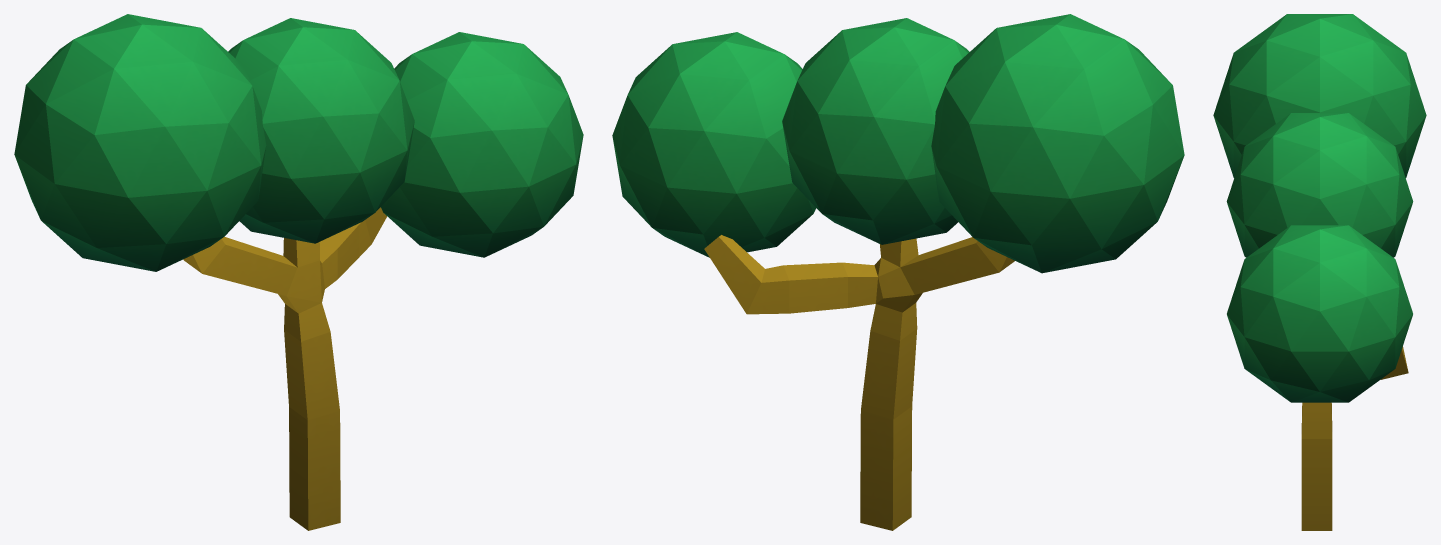
The model's file is tree.obj.
The picture shows the model from 3 angles, left to right: view 1: azimuth 30°, elevation 25°; view 2: azimuth 150°, elevation 25°; view 3: azimuth 270°, elevation 25°; orthographic projection. The views are drawn at different scales.
Visible parts, largest first — view 1: foliage_sm, tree_sm; view 2: foliage_sm, tree_sm; view 3: foliage_sm, tree_sm.
Part boxes in pixels (box(x1,y1,x2,y2)): foliage_sm: box(14, 14, 583, 271); tree_sm: box(183, 207, 386, 530); foliage_sm: box(612, 14, 1184, 273); tree_sm: box(704, 235, 1014, 530); foliage_sm: box(1213, 14, 1426, 402); tree_sm: box(1301, 346, 1408, 530).
Bounding box in the file's own units: 8.2 × 7.9 × 3.49.
